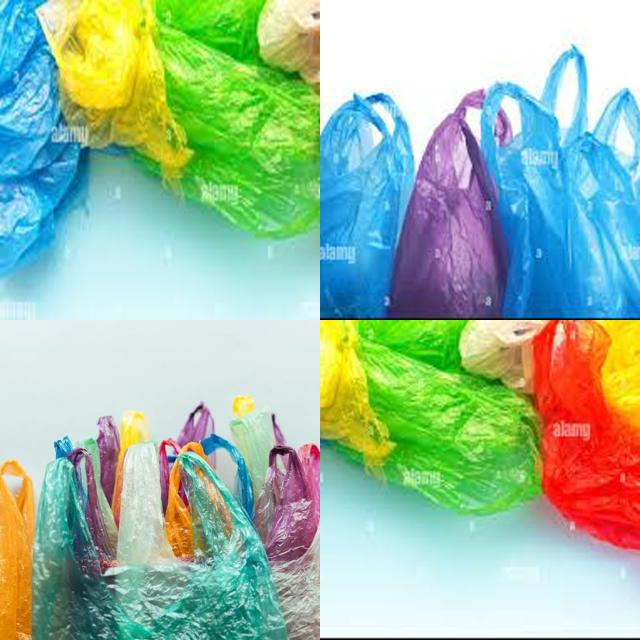Single-layer Plastic: (4, 365, 322, 580), (32, 451, 288, 640), (481, 48, 640, 318), (155, 0, 320, 237), (356, 320, 541, 512), (38, 0, 191, 178), (390, 90, 504, 318), (532, 321, 640, 549), (0, 0, 89, 273), (320, 94, 414, 318), (320, 320, 395, 466), (254, 444, 320, 561), (116, 442, 176, 566), (459, 320, 549, 394), (0, 460, 35, 639), (598, 320, 640, 431)
